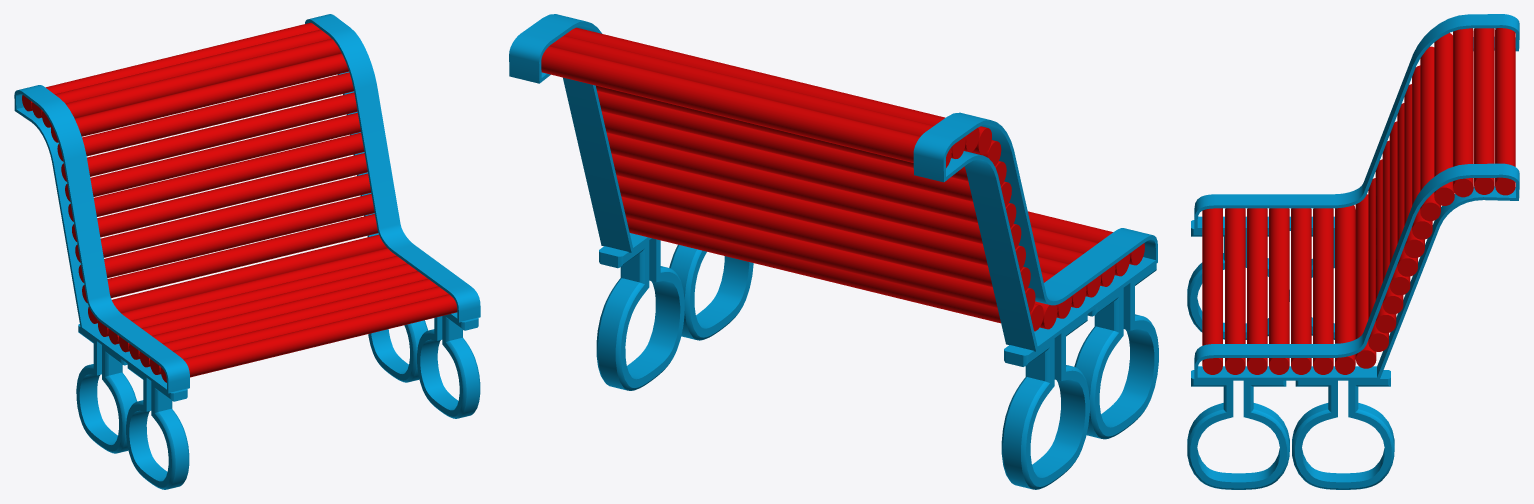
The model's file is BenchUpperCity.fbx.
The picture shows the model from 3 angles, left to right: view 1: azimuth 30°, elevation 25°; view 2: azimuth 150°, elevation 25°; view 3: azimuth 270°, elevation 25°; orthographic projection. The views are drawn at different scales.
Visible parts, largest first — view 1: Line013; view 2: Line013; view 3: Line013.
Boxes of the visible parts, x1,y1,x2,y2 form: Line013: (14, 14, 480, 489); Line013: (509, 14, 1158, 489); Line013: (1187, 14, 1519, 489).
Size of the model in its own units: 141 by 130 by 123.
